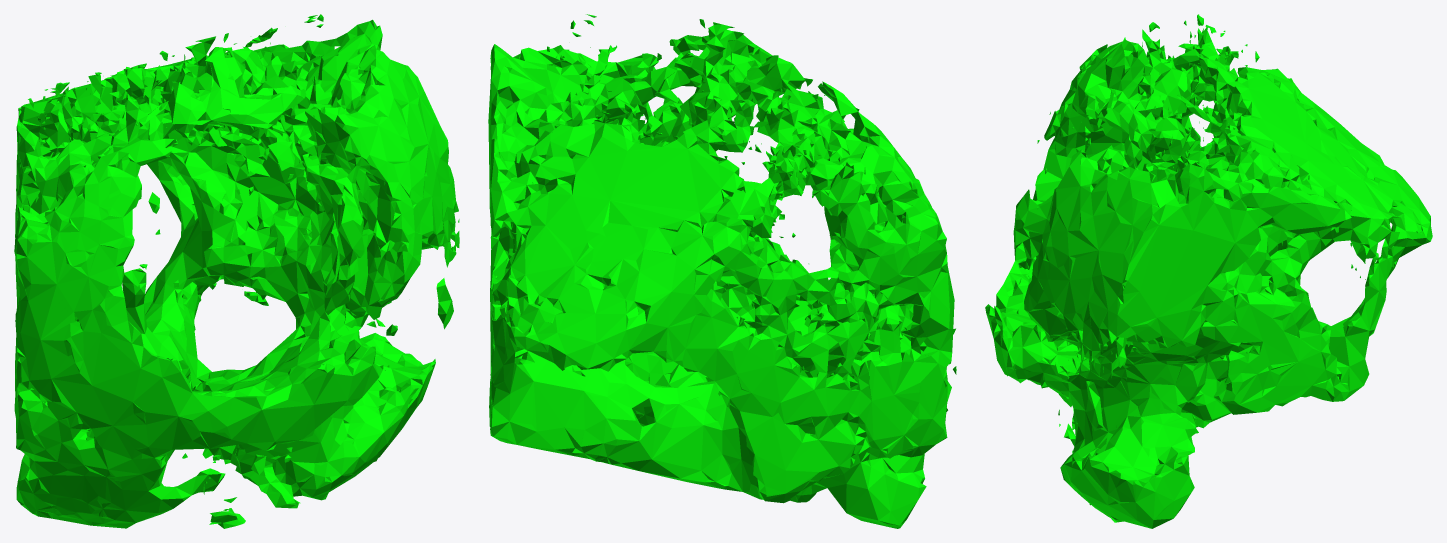
File: B939XXXX-1_base_2.obj
3 views of the same model, side by side, from view 1: azimuth 30°, elevation 25°; view 2: azimuth 150°, elevation 25°; view 3: azimuth 270°, elevation 25° (orthographic). The views are drawn at different scales.
Visible parts, largest first — view 1: 2_base; view 2: 2_base; view 3: 2_base.
Part boxes in pixels (bbox=[...]): 2_base: bbox=[14, 14, 459, 528]; 2_base: bbox=[488, 14, 956, 528]; 2_base: bbox=[985, 14, 1432, 528].
Size of the model in its own units: 218 by 218 by 205.
